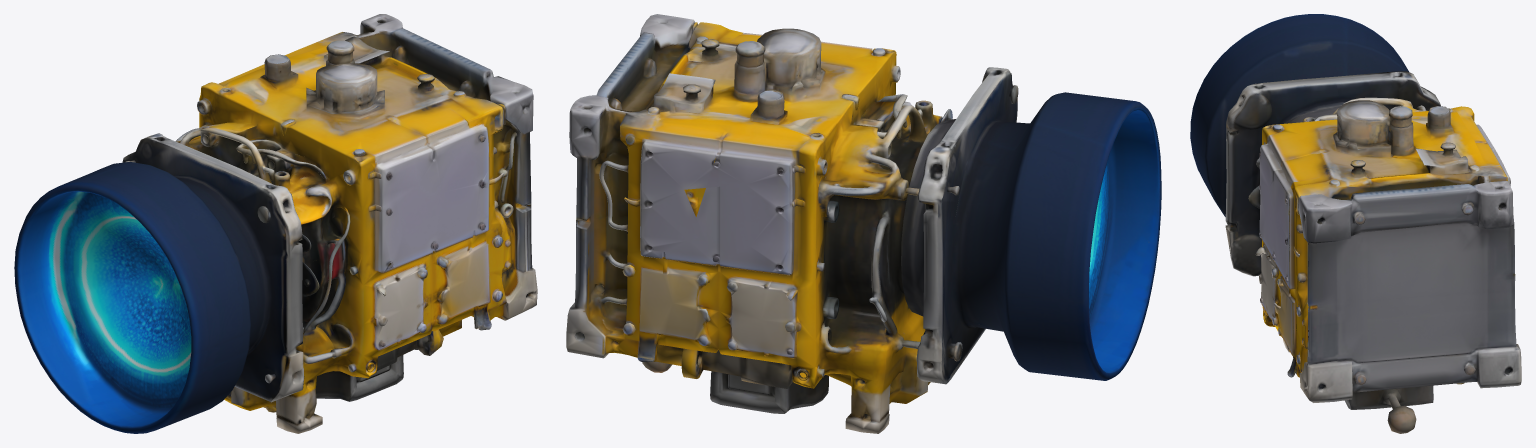
File: sat3_5.fbx
3 views of the same model, side by side, from view 1: azimuth 30°, elevation 25°; view 2: azimuth 150°, elevation 25°; view 3: azimuth 270°, elevation 25° (orthographic). The views are drawn at different scales.
Parts seen in each view (by area): view 1: tripo_node_0ef765fa; view 2: tripo_node_0ef765fa; view 3: tripo_node_0ef765fa.
Boxes of the visible parts, bbox=[...] form: tripo_node_0ef765fa: bbox=[14, 14, 537, 433]; tripo_node_0ef765fa: bbox=[566, 14, 1161, 433]; tripo_node_0ef765fa: bbox=[1190, 14, 1521, 433].
Size of the model in its own units: 0.9995 by 0.6948 by 0.6968.
